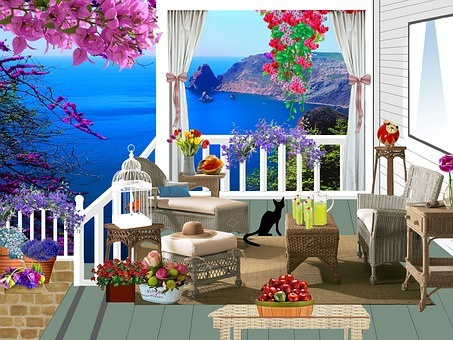cat: (245, 194, 287, 250)
chair: (343, 154, 444, 285)
pottedplant: (92, 253, 138, 308), (17, 237, 59, 286), (2, 223, 28, 275)
